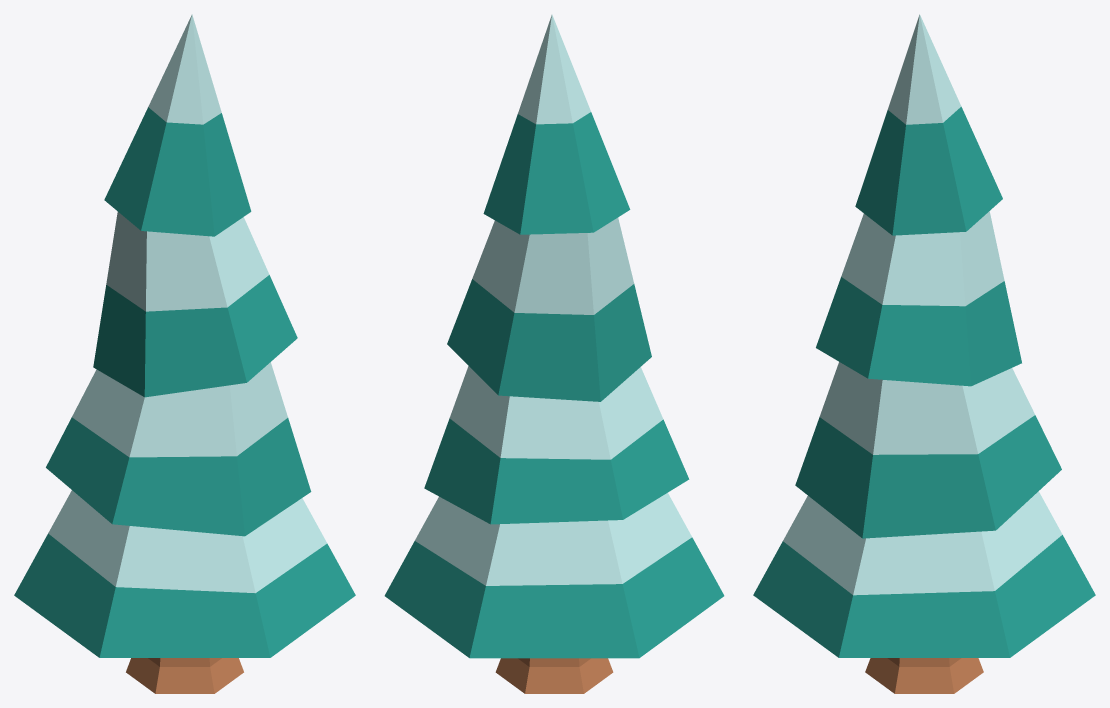
The model's file is treePineSnow.fbx.
3 renders of one model, left to right at view 1: azimuth 30°, elevation 25°; view 2: azimuth 150°, elevation 25°; view 3: azimuth 270°, elevation 25°, orthographic.
Parts seen in each view (by area): view 1: treePineSnow; view 2: treePineSnow; view 3: treePineSnow.
Boxes of the visible parts, left/top/right/bottom form: treePineSnow: left=14, top=14, right=355, bottom=693; treePineSnow: left=384, top=14, right=724, bottom=693; treePineSnow: left=753, top=14, right=1095, bottom=693.
Bounding box in the file's own units: 6.51 × 15.98 × 7.52.
